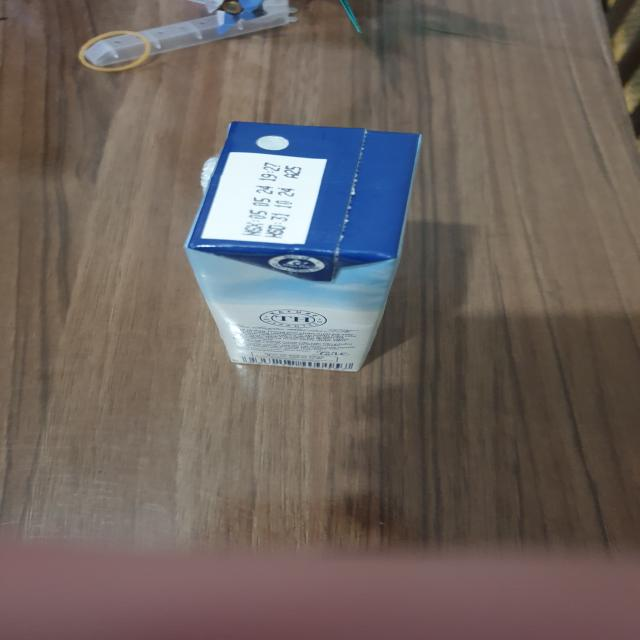TH: (182, 120, 427, 377)
